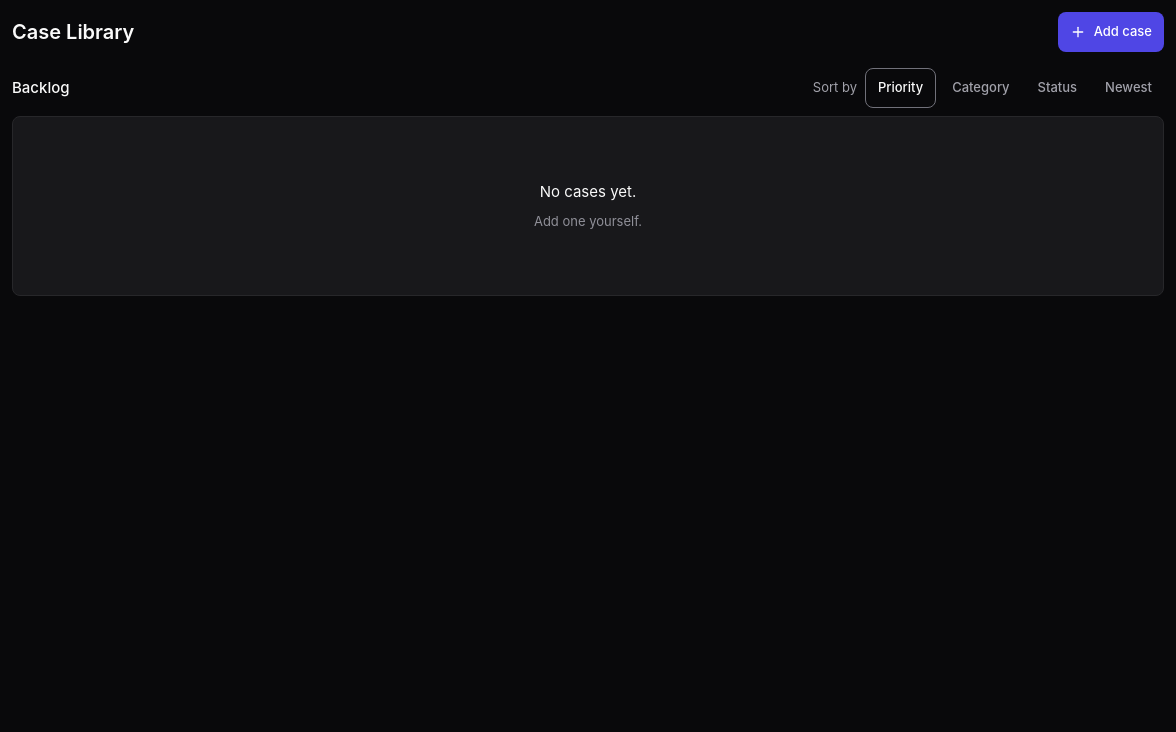
it: categories come from the channel bible › lists the bible's categories in the add form, labelled
This screenshot has width=1176, height=732.
Click the button "Add case".
click(1111, 32)  # box [1058,12,1164,52]
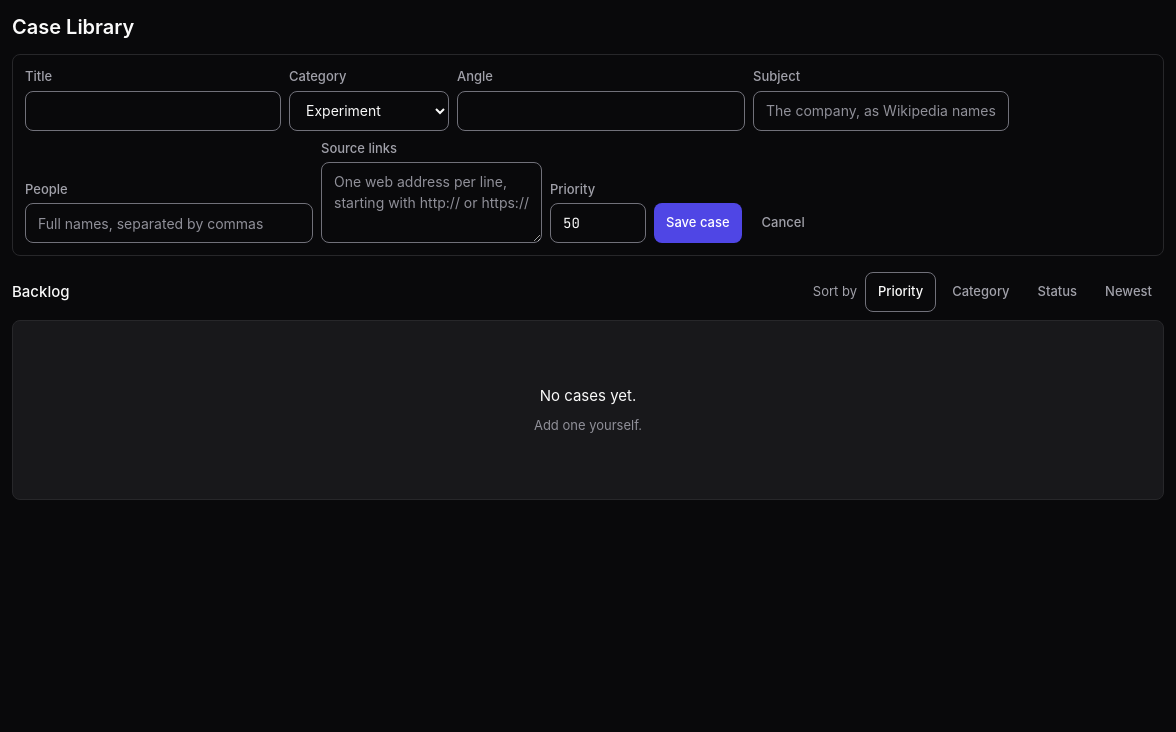
Expected: the dropdown labelled "Category" shows "Experiment", [289,90,449,130]
